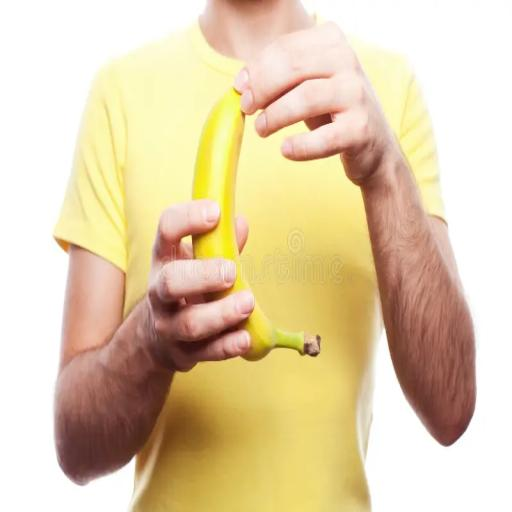banana: (192, 88, 250, 300)
